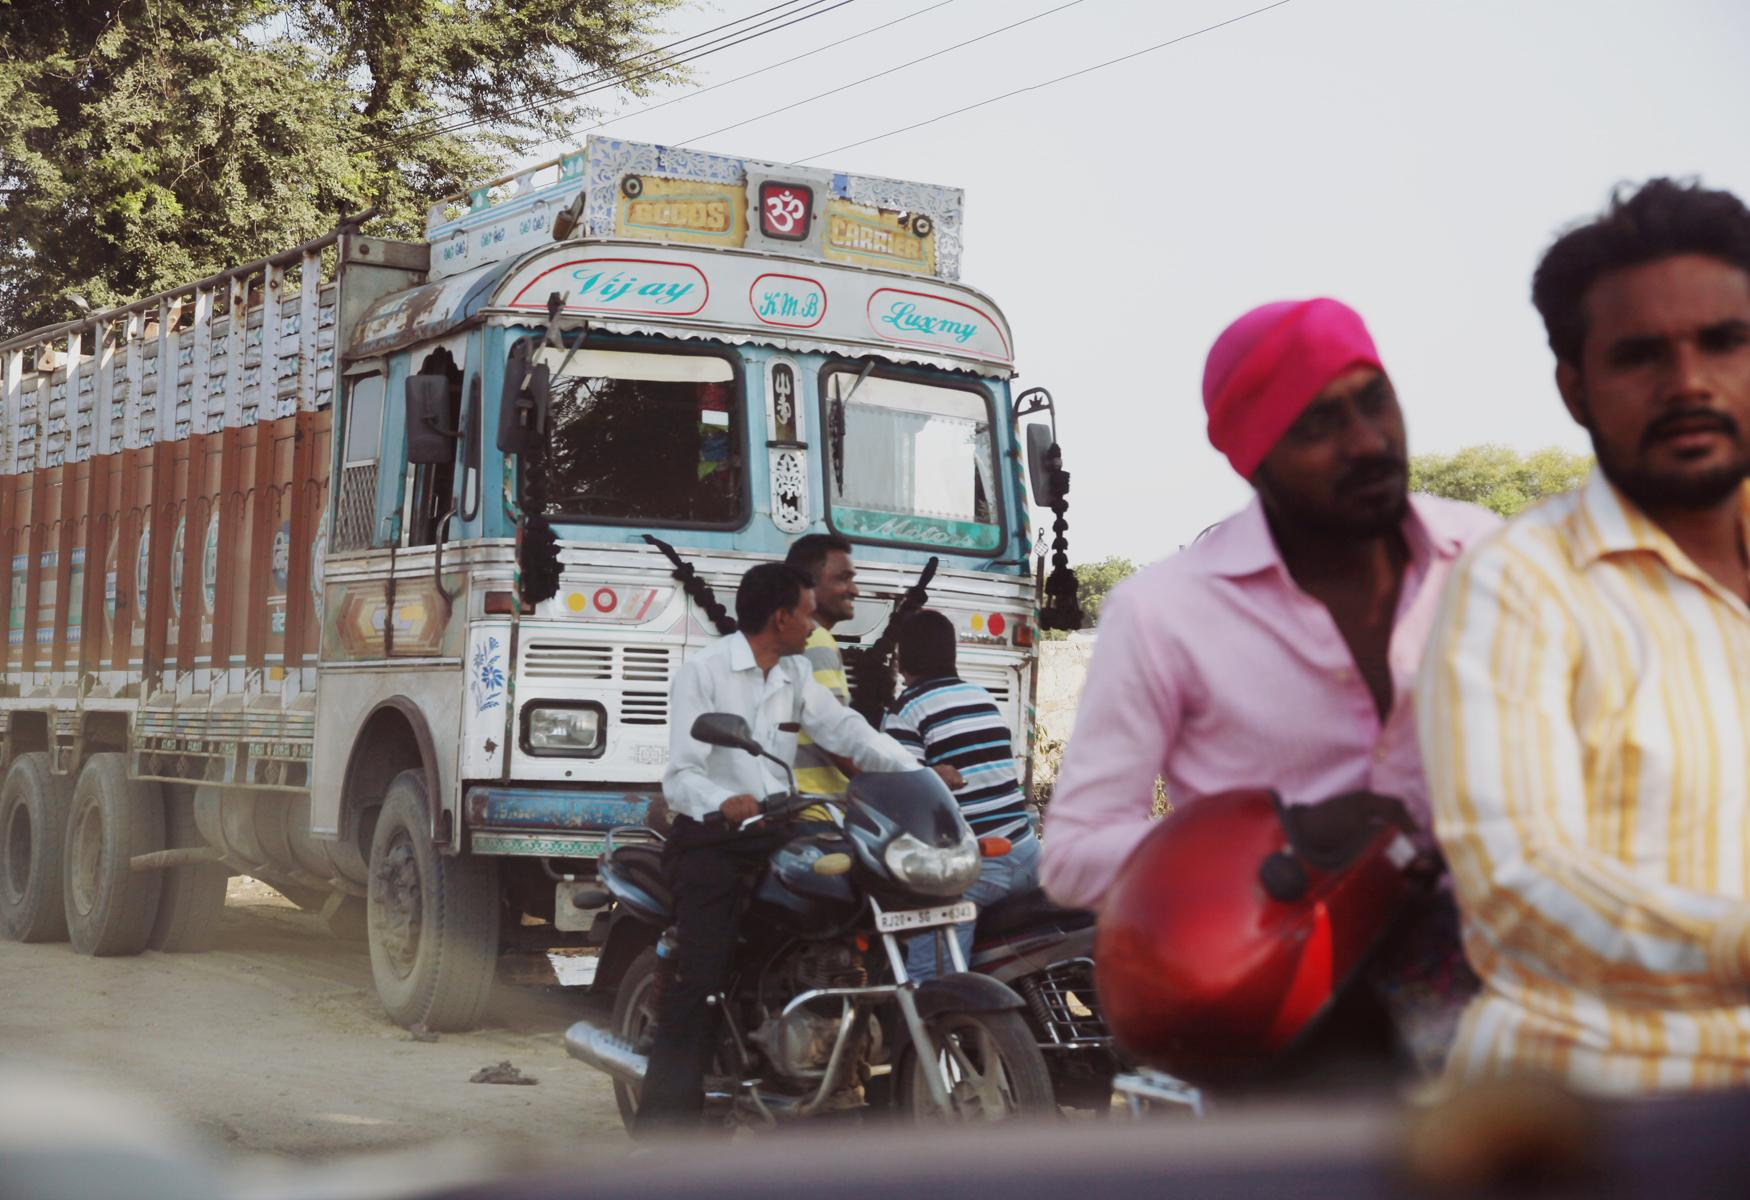motorbike: (562, 717, 1059, 1135)
truck: (11, 133, 1036, 1030)
